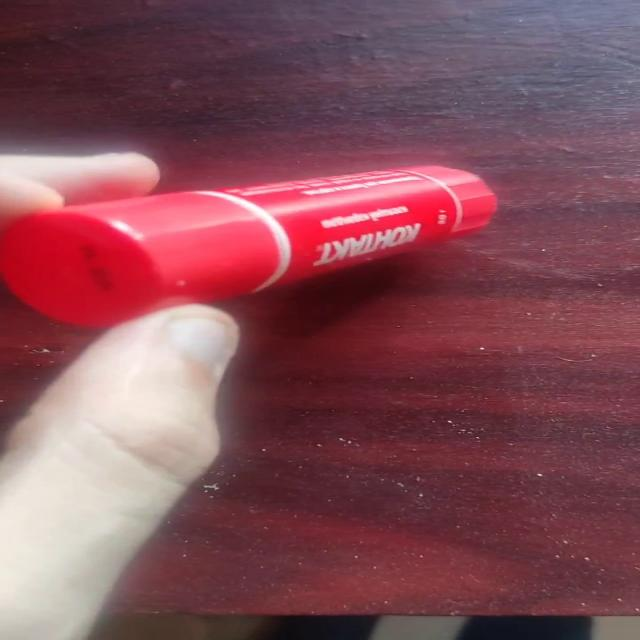glue: (1, 162, 499, 328)
